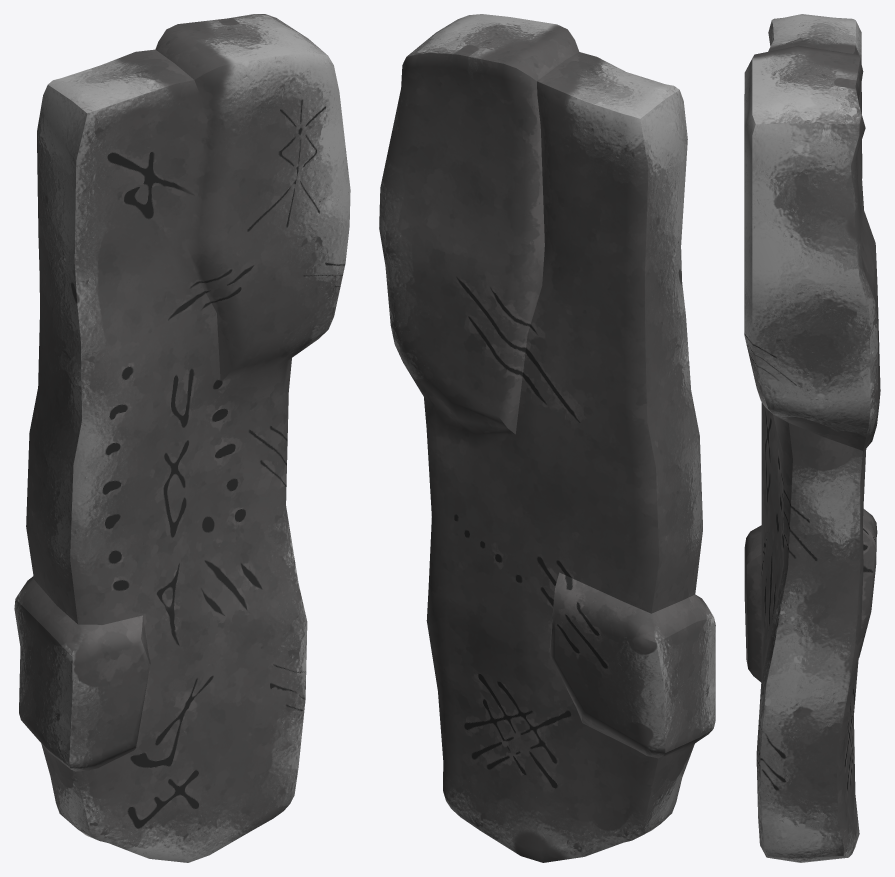
File: Menhir_5_Game.fbx
3 views of the same model, side by side, from view 1: azimuth 30°, elevation 25°; view 2: azimuth 150°, elevation 25°; view 3: azimuth 270°, elevation 25° (orthographic).
Visible parts, largest first — view 1: pCube4; view 2: pCube4; view 3: pCube4.
Part boxes in pixels (x1,y1,x2,y2): pCube4: (14, 14, 350, 862); pCube4: (379, 14, 715, 862); pCube4: (744, 14, 880, 862).
Size of the model in its own units: 6.93 by 18.19 by 2.77.
1 material, 1 textured.
